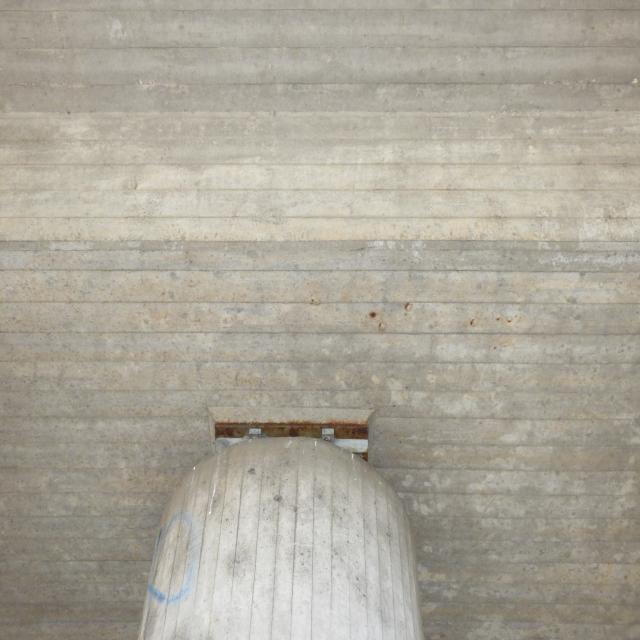corrosion: (210, 416, 371, 442), (465, 314, 518, 351), (364, 302, 391, 334), (300, 290, 327, 314), (344, 448, 373, 467), (402, 298, 418, 319)
